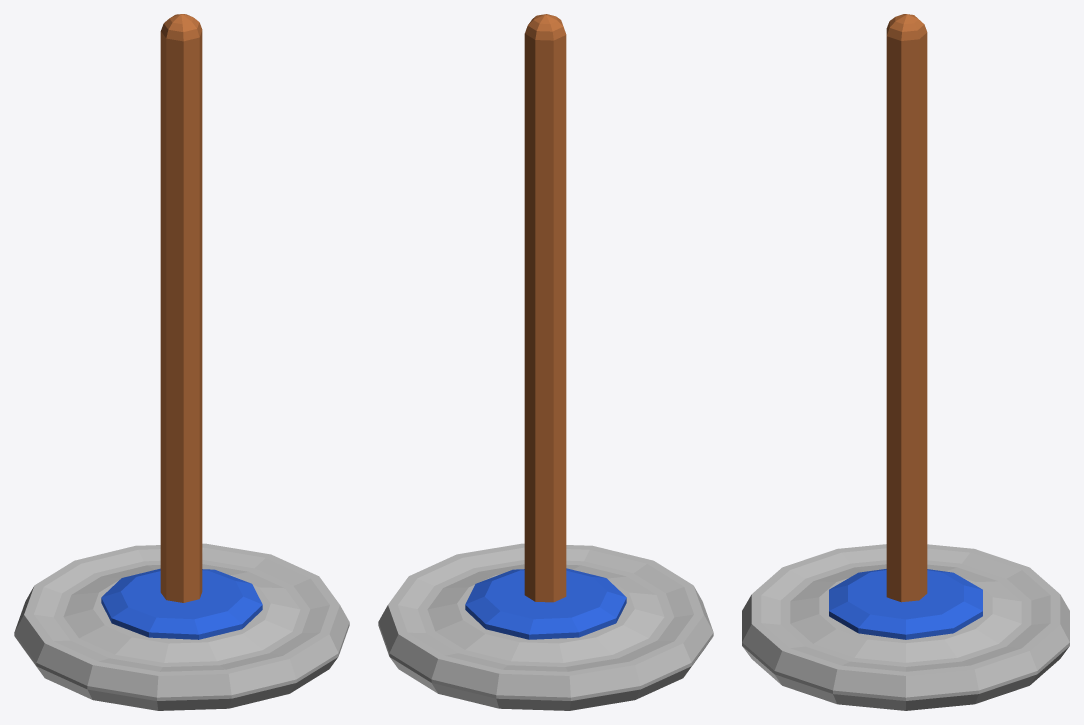
Rendered from Mop.fbx.
The picture shows the model from 3 angles, left to right: view 1: azimuth 30°, elevation 25°; view 2: azimuth 150°, elevation 25°; view 3: azimuth 270°, elevation 25°; orthographic projection.
Parts seen in each view (by area): view 1: Head, Stick, HeadAttachment; view 2: Head, Stick, HeadAttachment; view 3: Head, Stick, HeadAttachment.
Part boxes in pixels (x1,y1,x2,y2): Head: [14, 543, 349, 710]; Stick: [160, 14, 202, 602]; HeadAttachment: [101, 568, 262, 639]; Head: [378, 543, 713, 710]; Stick: [524, 14, 566, 602]; HeadAttachment: [465, 568, 626, 639]; Head: [742, 544, 1069, 710]; Stick: [886, 14, 927, 602]; HeadAttachment: [829, 569, 982, 639].
Size of the model in its own units: 109 by 225 by 106.
Materials: 3 (3 with a texture image).
